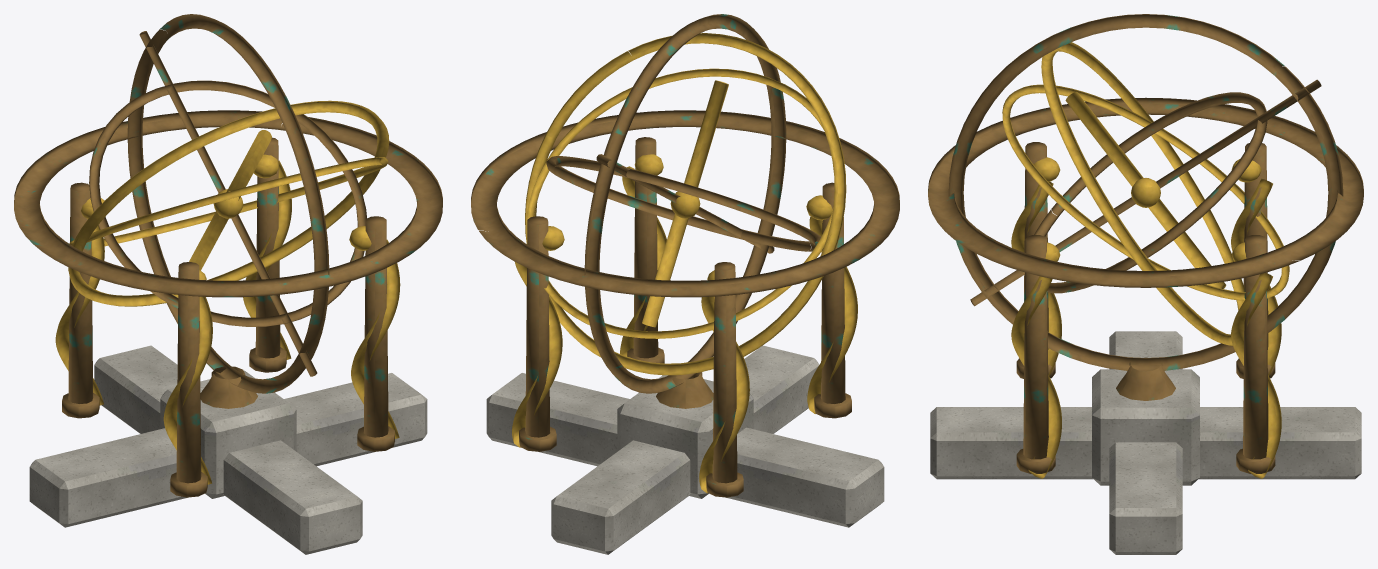
Rendered from armillary_sphere.glb.
3 renders of one model, left to right at view 1: azimuth 30°, elevation 25°; view 2: azimuth 150°, elevation 25°; view 3: azimuth 270°, elevation 25°, orthographic.
Parts seen in each view (by area): view 1: ArmillaryBronze, ArmillaryBase, ArmillaryGilt; view 2: ArmillaryBronze, ArmillaryBase, ArmillaryGilt; view 3: ArmillaryBronze, ArmillaryBase, ArmillaryGilt.
Boxes of the visible parts, bbox=[...] form: ArmillaryBronze: bbox=[14, 14, 442, 497]; ArmillaryBase: bbox=[29, 345, 427, 554]; ArmillaryGilt: bbox=[55, 100, 400, 484]; ArmillaryBronze: bbox=[471, 14, 899, 497]; ArmillaryBase: bbox=[486, 345, 884, 554]; ArmillaryGilt: bbox=[512, 33, 857, 493]; ArmillaryBronze: bbox=[928, 14, 1363, 473]; ArmillaryBase: bbox=[930, 331, 1361, 554]; ArmillaryGilt: bbox=[1002, 42, 1289, 478].
Size of what is drawn, in the model's own units: 2.02 by 2.32 by 2.02.
3 materials, 3 textured.
